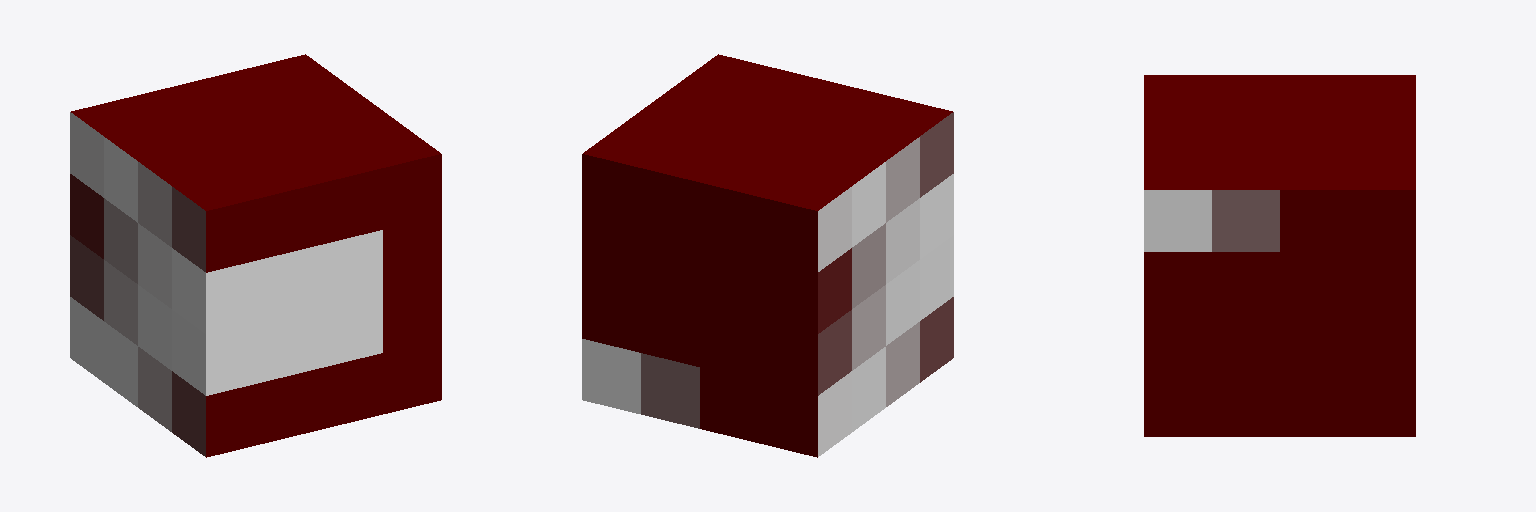
3 renders of one model, left to right at view 1: azimuth 30°, elevation 25°; view 2: azimuth 150°, elevation 25°; view 3: azimuth 270°, elevation 25°, orthographic.
Parts seen in each view (by area): view 1: Cube; view 2: Cube; view 3: Cube.
Boxes of the visible parts, box(x1,y1,x2,y2) form: Cube: box(70, 54, 441, 457); Cube: box(582, 54, 953, 457); Cube: box(1144, 75, 1415, 436).
Size of the model in its own units: 2 by 2 by 2.
3 materials, 3 textured.